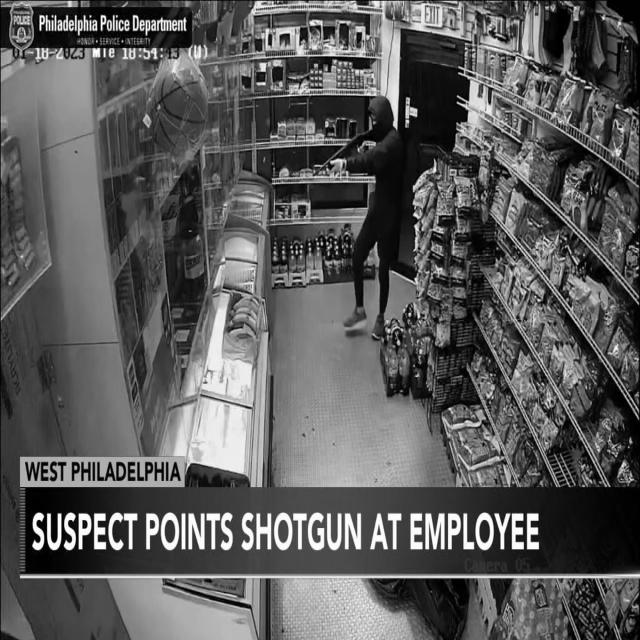weapon: (317, 133, 374, 178)
